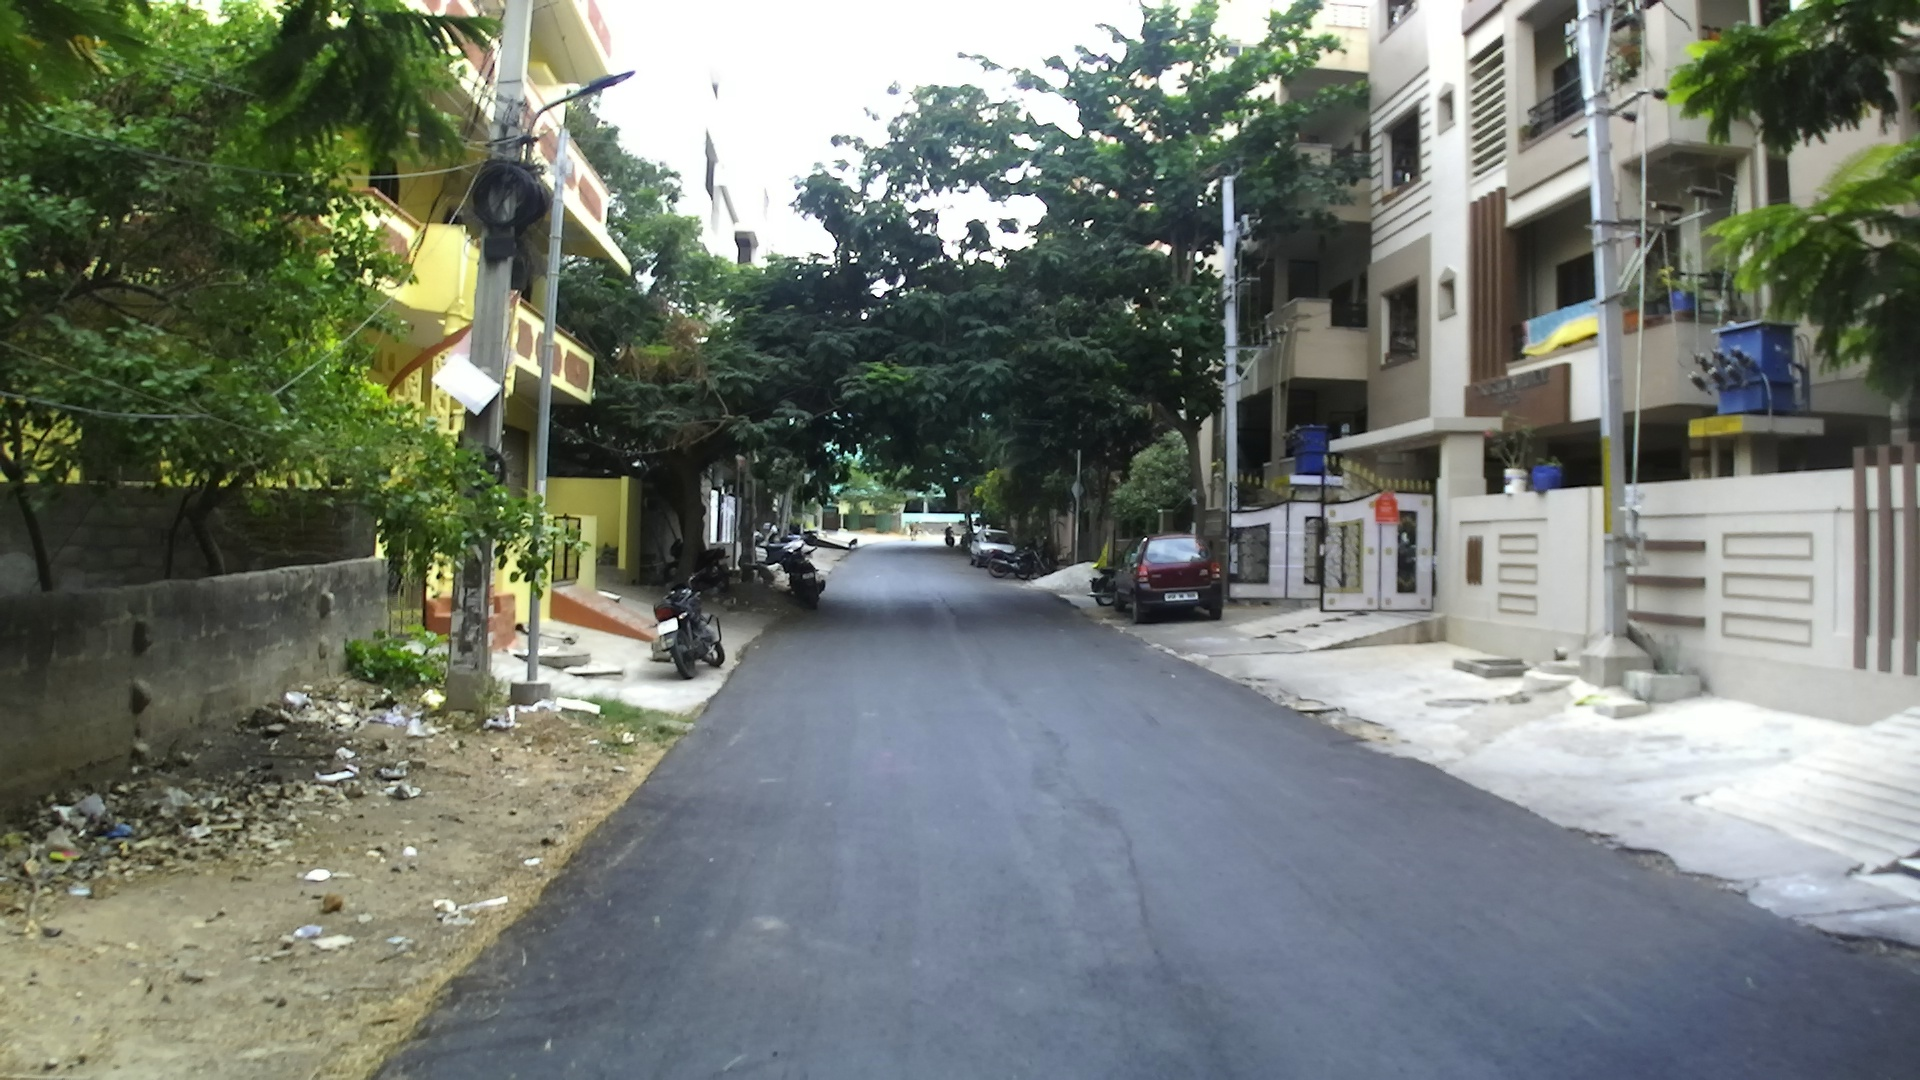vehicle: (1126, 534, 1228, 621), (653, 585, 727, 679), (972, 535, 1023, 575)
